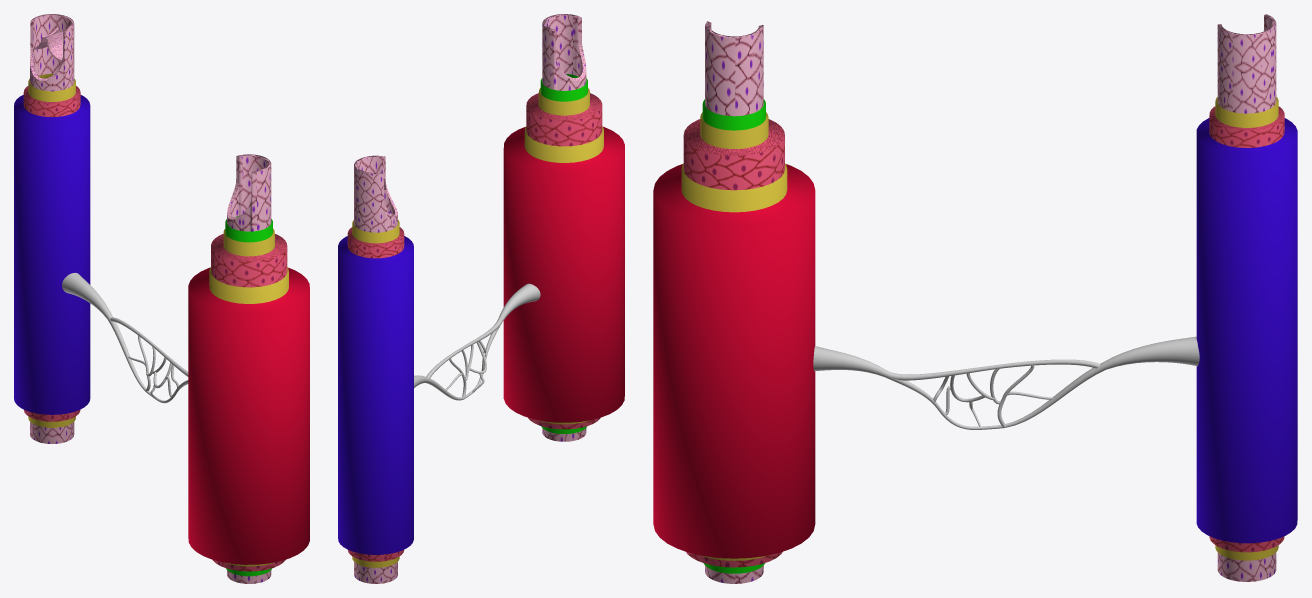
The model's file is ArteriOke.fbx.
3 views of the same model, side by side, from view 1: azimuth 30°, elevation 25°; view 2: azimuth 150°, elevation 25°; view 3: azimuth 270°, elevation 25° (orthographic). The views are drawn at different scales.
Parts seen in each view (by area): view 1: Cylinder.005, Cylinder.009, Cylinder.012, Cylinder, Cylinder.003, BezierCurve, Cylinder.004, Cylinder.010, Cylinder.011, Cylinder.002, Cylinder.001, Sphere.002; view 2: Cylinder.005, Cylinder.009, Cylinder.012, Cylinder, Cylinder.003, BezierCurve, Cylinder.004, Cylinder.010, Cylinder.011, Cylinder.001, Cylinder.002; view 3: Cylinder.005, Cylinder.009, BezierCurve, Cylinder.012, Cylinder.003, Cylinder, Cylinder.004, Cylinder.010, Cylinder.011, Cylinder.002, Cylinder.001.
Part boxes in pixels (x1=…): Cylinder.005: x1=188, y1=267, x2=309, y2=564; Cylinder.009: x1=14, y1=95, x2=90, y2=414; Cylinder.012: x1=30, y1=14, x2=74, y2=443; Cylinder: x1=227, y1=154, x2=271, y2=583; Cylinder.003: x1=211, y1=234, x2=287, y2=571; BezierCurve: x1=62, y1=272, x2=188, y2=403; Cylinder.004: x1=209, y1=267, x2=288, y2=566; Cylinder.010: x1=23, y1=86, x2=80, y2=421; Cylinder.011: x1=28, y1=73, x2=75, y2=427; Cylinder.002: x1=223, y1=229, x2=274, y2=256; Cylinder.001: x1=225, y1=215, x2=272, y2=576; Sphere.002: x1=33, y1=28, x2=63, y2=61; Cylinder.005: x1=503, y1=126, x2=624, y2=422; Cylinder.009: x1=338, y1=236, x2=413, y2=554; Cylinder.012: x1=354, y1=155, x2=397, y2=583; Cylinder: x1=542, y1=14, x2=586, y2=441; Cylinder.003: x1=526, y1=93, x2=602, y2=429; BezierCurve: x1=414, y1=283, x2=540, y2=400; Cylinder.004: x1=524, y1=126, x2=603, y2=424; Cylinder.010: x1=347, y1=227, x2=404, y2=561; Cylinder.011: x1=352, y1=220, x2=399, y2=567; Cylinder.001: x1=540, y1=74, x2=587, y2=434; Cylinder.002: x1=538, y1=88, x2=589, y2=115; Cylinder.005: x1=653, y1=164, x2=815, y2=558; Cylinder.009: x1=1196, y1=118, x2=1297, y2=543; BezierCurve: x1=813, y1=336, x2=1199, y2=429; Cylinder.012: x1=1217, y1=14, x2=1276, y2=581; Cylinder.003: x1=683, y1=119, x2=784, y2=567; Cylinder: x1=705, y1=21, x2=763, y2=583; Cylinder.004: x1=681, y1=163, x2=787, y2=560; Cylinder.010: x1=1209, y1=106, x2=1284, y2=552; Cylinder.011: x1=1215, y1=97, x2=1278, y2=560; Cylinder.002: x1=700, y1=112, x2=768, y2=148; Cylinder.001: x1=702, y1=99, x2=765, y2=573.
Bounding box in the file's own units: 336 × 1251 × 1337.
